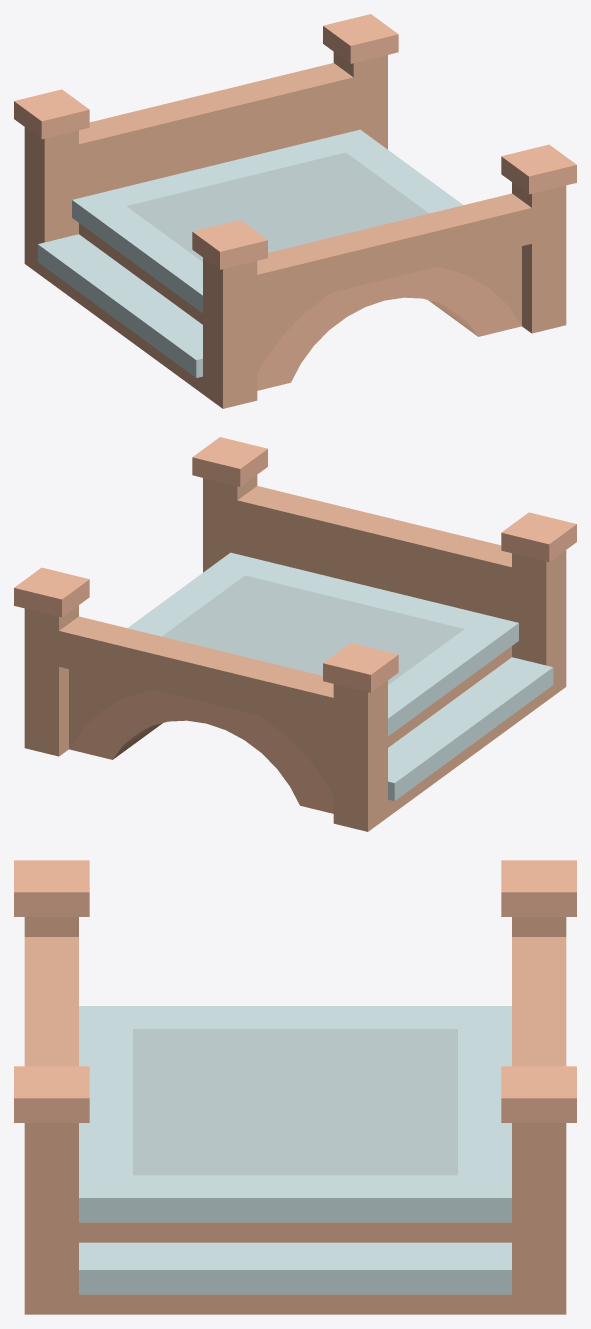
File: bridge_woodRound.glb
3 views of the same model, one above another, from view 1: azimuth 30°, elevation 25°; view 2: azimuth 150°, elevation 25°; view 3: azimuth 270°, elevation 25° (orthographic). The views are drawn at different scales.
Visible parts, largest first — view 1: bridge_woodRound; view 2: bridge_woodRound; view 3: bridge_woodRound.
Boxes of the visible parts, x1,y1,x2,y2 form: bridge_woodRound: (14, 14, 576, 408); bridge_woodRound: (14, 437, 576, 831); bridge_woodRound: (14, 860, 576, 1314).
Size of the model in its own units: 1.04 by 0.45 by 1.04.
